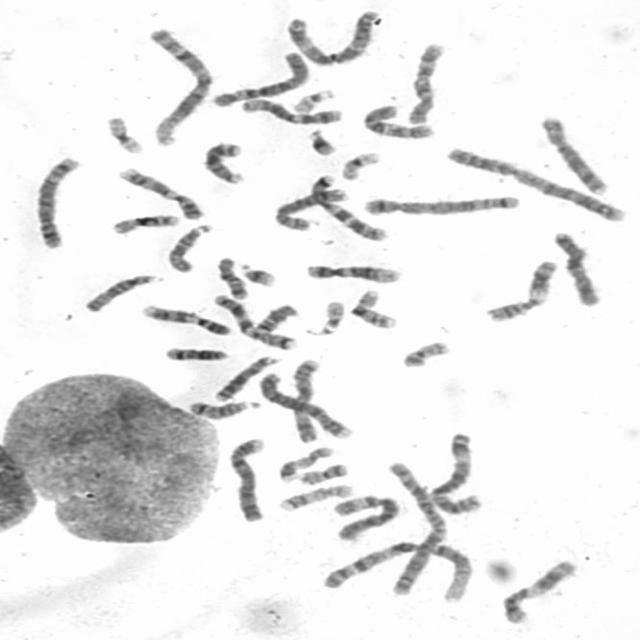A1: (316, 536, 478, 604), (142, 24, 216, 148)
A2: (441, 143, 630, 224), (382, 456, 451, 598)
A3: (280, 5, 380, 68), (427, 429, 487, 516)
B4: (256, 368, 356, 440), (224, 434, 269, 523)
B5: (30, 152, 84, 250), (358, 191, 524, 217)
C10: (402, 38, 448, 126), (358, 100, 439, 140)
C11: (497, 555, 579, 625), (481, 256, 561, 324)
C12: (236, 95, 346, 125), (300, 260, 404, 284)
C6: (207, 48, 310, 108), (327, 490, 402, 542)
C7: (304, 170, 389, 242), (208, 290, 299, 352)
C8: (535, 112, 612, 196), (269, 183, 353, 233)
C9: (114, 163, 207, 221), (138, 300, 235, 337)
D13: (210, 352, 282, 403), (200, 137, 248, 185)
D14: (184, 396, 264, 420), (160, 342, 232, 362)
D15: (79, 270, 166, 314), (162, 220, 215, 274)
E16: (347, 286, 401, 330), (108, 210, 182, 236)
E17: (272, 480, 356, 512), (274, 442, 336, 484)
E18: (212, 253, 251, 300), (251, 300, 301, 334)
F19: (102, 112, 146, 155), (338, 148, 384, 182)
F20: (398, 336, 452, 368), (294, 459, 351, 486)
G21: (237, 260, 280, 288), (304, 125, 339, 157)
G22: (288, 85, 338, 114), (315, 296, 348, 336)
X: (548, 227, 604, 308), (288, 355, 322, 444)
